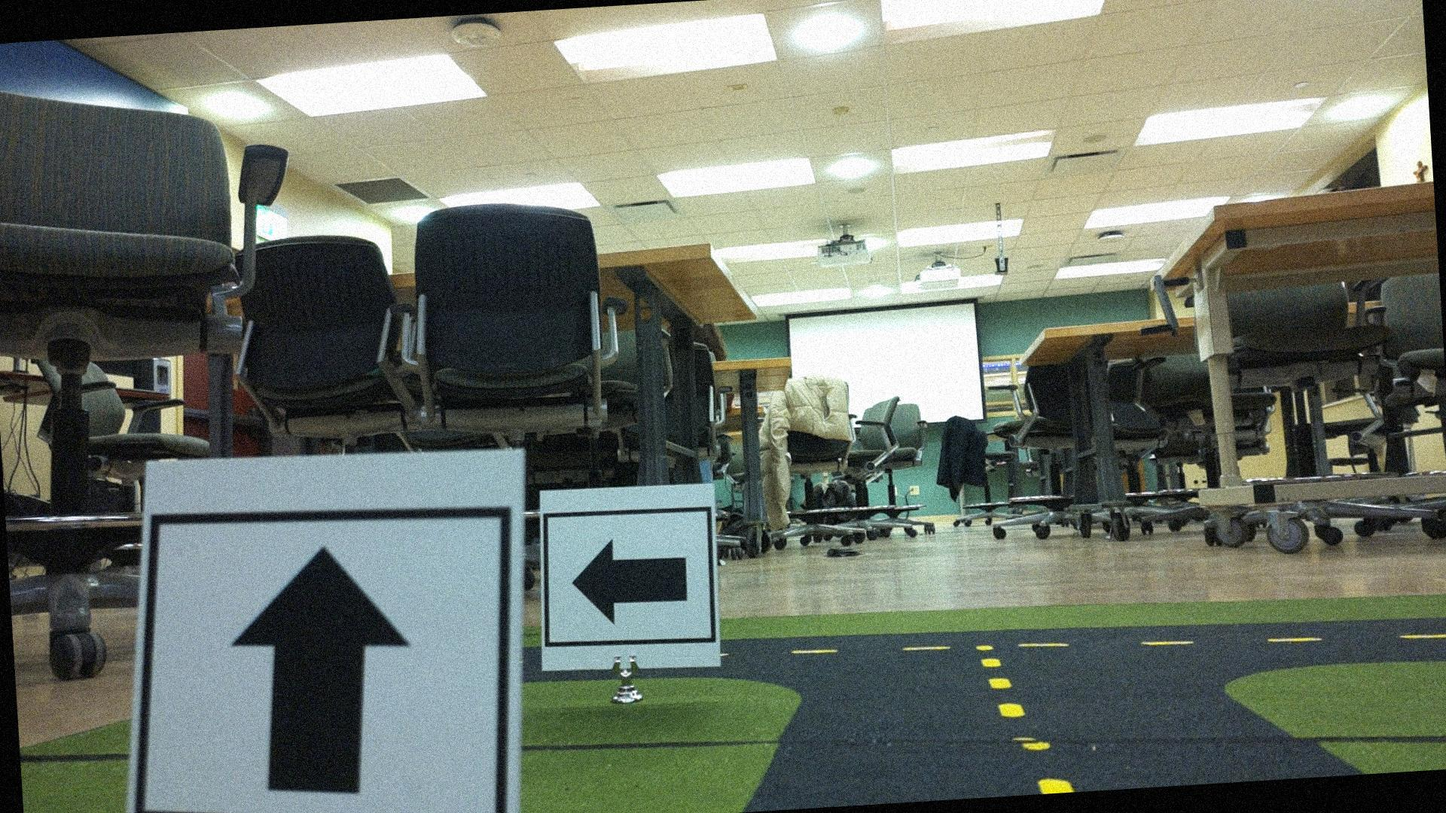gostraight: (149, 458, 518, 812)
turnleft: (541, 486, 727, 676)
yellowline: (981, 650, 1071, 794)
